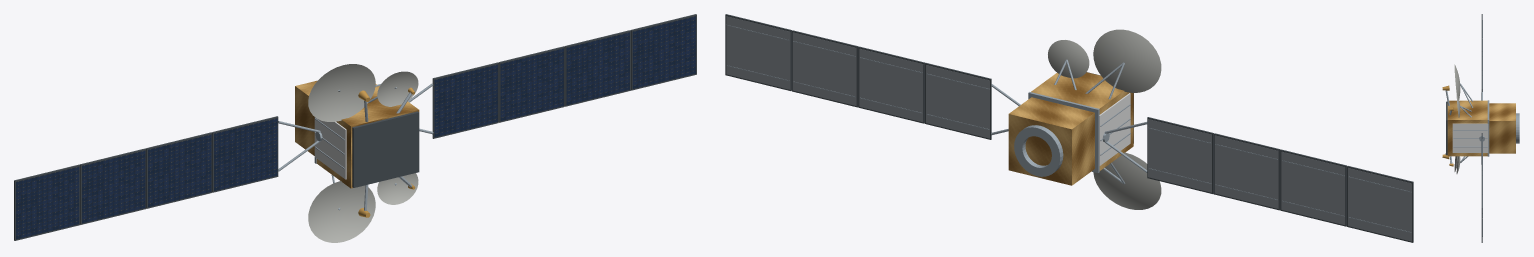
Rendered from ref-turksat-6-60233.glb.
3 renders of one model, left to right at view 1: azimuth 30°, elevation 25°; view 2: azimuth 150°, elevation 25°; view 3: azimuth 270°, elevation 25°, orthographic. The views are drawn at different scales.
Parts seen in each view (by area): view 1: Solar cell panel (×8), Communications reflector (×4), Earth-facing deck, Solar panel frame (×8), Payload module, Radiator face, Service module; view 2: Rear array substrate (×8), Communications reflector (×3), Service module, Solar panel frame (×8), Payload module, Radiator face, Launch adapter ring, Module interface; view 3: Service module, Payload module, Radiator face, Communications reflector (×2), Module interface, Launch adapter ring, Earth-facing deck, Solar panel frame, Radiator seam.
Boxes of the visible parts, <box> form: Solar cell panel (×8): <box>16,16,695,239</box>; Communications reflector (×4): <box>308,64,418,242</box>; Earth-facing deck: <box>352,111,419,187</box>; Solar panel frame (×8): <box>14,14,696,240</box>; Payload module: <box>316,86,419,188</box>; Radiator face: <box>314,117,346,179</box>; Service module: <box>295,80,376,155</box>; Rear array substrate (×8): <box>726,16,1411,241</box>; Communications reflector (×3): <box>1048,29,1161,209</box>; Service module: <box>1008,97,1094,185</box>; Solar panel frame (×8): <box>725,14,1413,242</box>; Payload module: <box>1031,72,1133,170</box>; Radiator face: <box>1099,93,1130,165</box>; Launch adapter ring: <box>1014,125,1063,176</box>; Module interface: <box>1028,92,1099,172</box>; Service module: <box>1489,103,1515,153</box>; Payload module: <box>1447,100,1487,156</box>; Radiator face: <box>1452,123,1488,152</box>; Communications reflector (×2): <box>1454,64,1460,117</box>; Module interface: <box>1487,100,1489,156</box>; Launch adapter ring: <box>1516,113,1519,143</box>; Earth-facing deck: <box>1446,101,1447,155</box>; Solar panel frame: <box>1481,189,1482,242</box>; Radiator seam: <box>1453,146,1487,147</box>.
Size of the model in its own units: 29.97 by 7.43 by 5.03.
8 materials, 2 textured.
